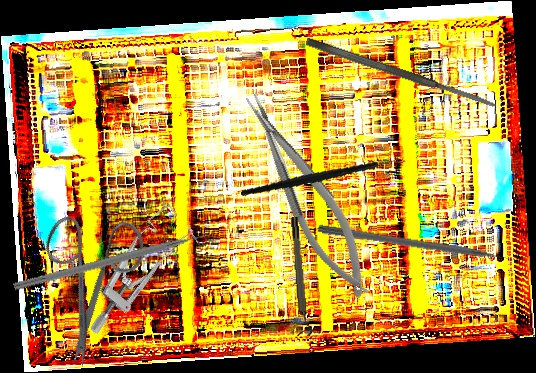Chopper: (240, 127, 405, 218), (13, 229, 218, 302)
Fixation Ring: (288, 216, 314, 337)
Iris Scissors: (6, 188, 185, 373)
Needle Holder: (236, 82, 381, 308)
Pusher: (316, 223, 525, 268)
Spatula Surgical: (304, 35, 498, 112)
Speculum: (58, 201, 209, 337)
